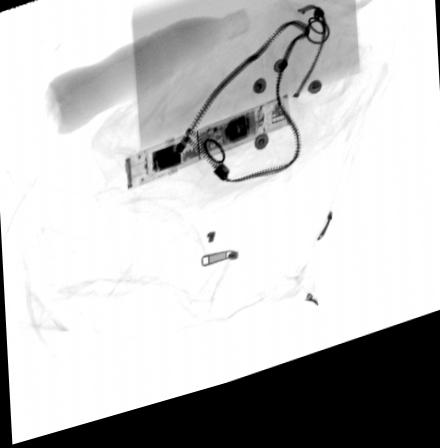Baton: (122, 108, 292, 198)
